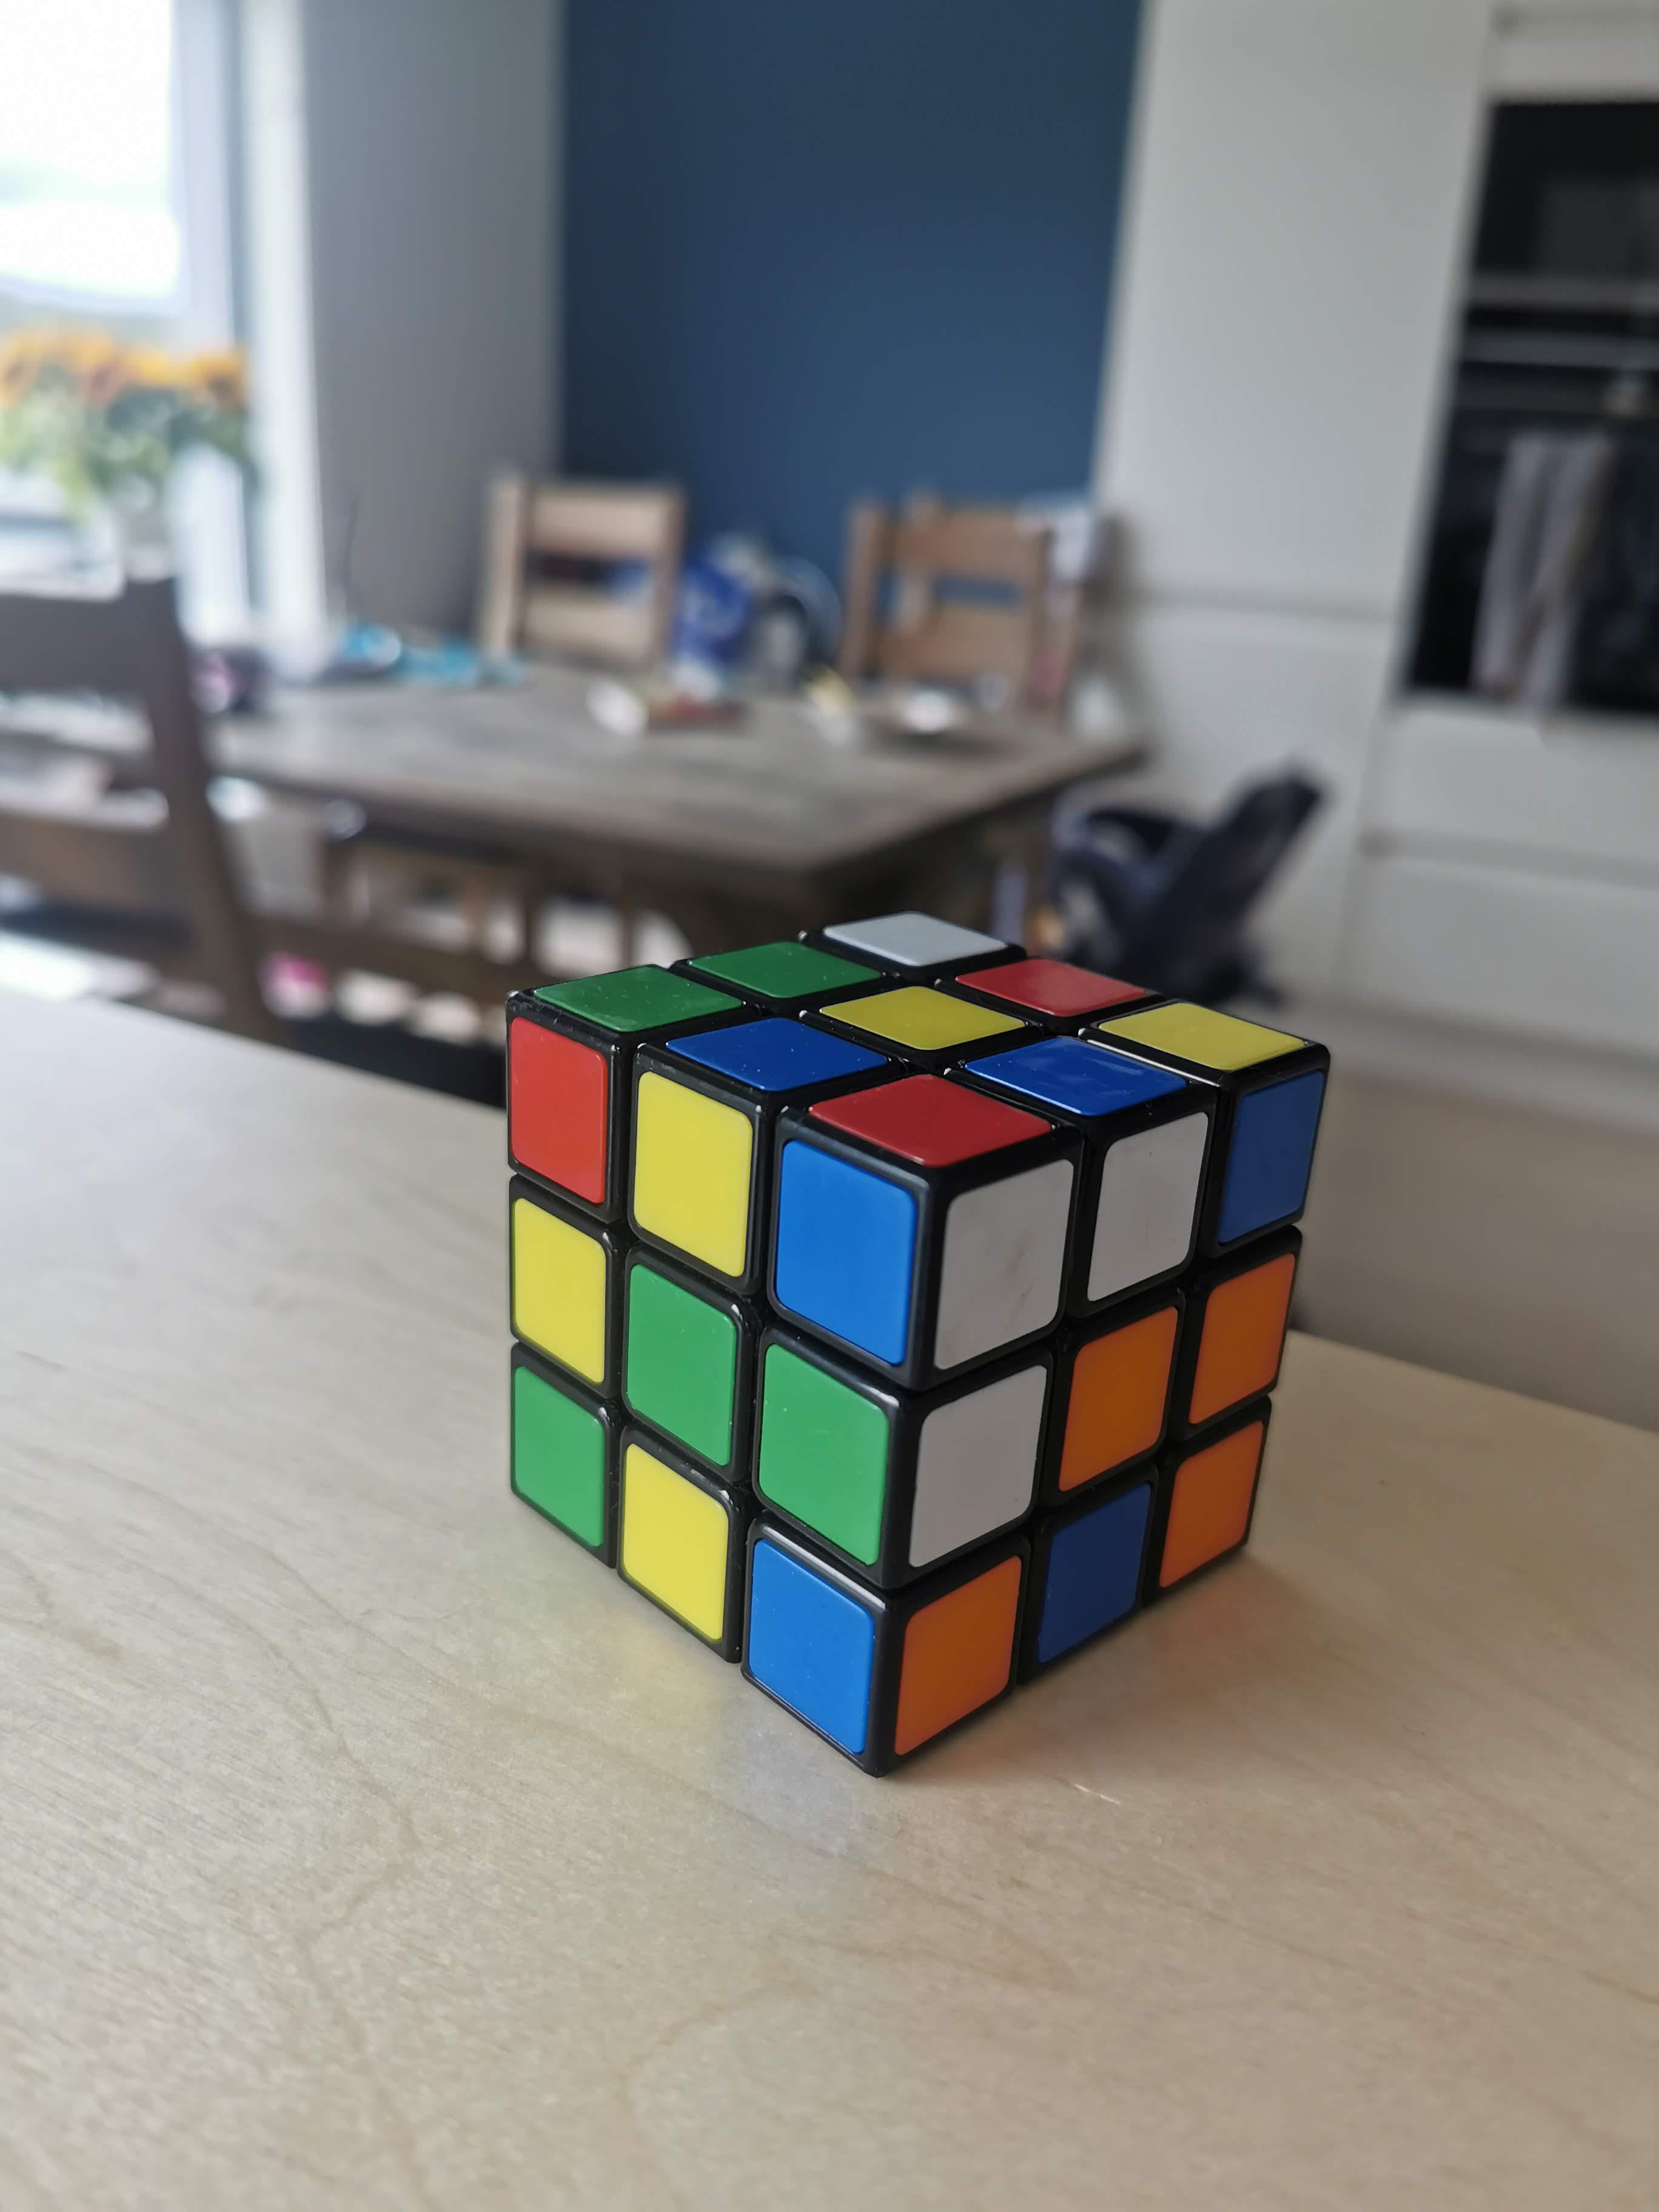cube: (500, 902, 1331, 1782)
